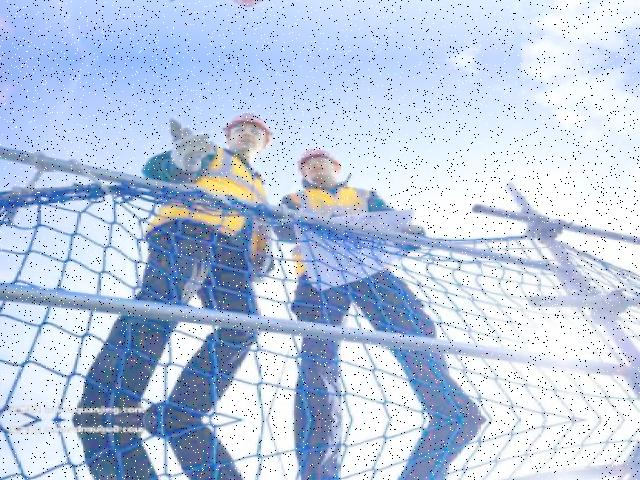Helmet: (216, 106, 275, 145), (289, 143, 344, 179)
